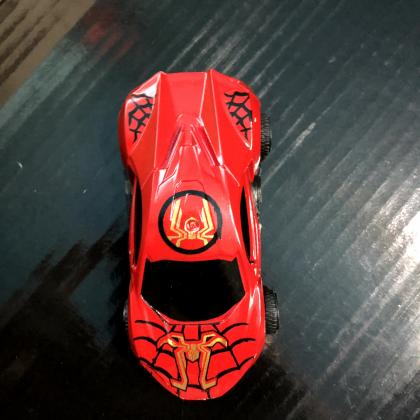Car: (117, 71, 268, 402)
